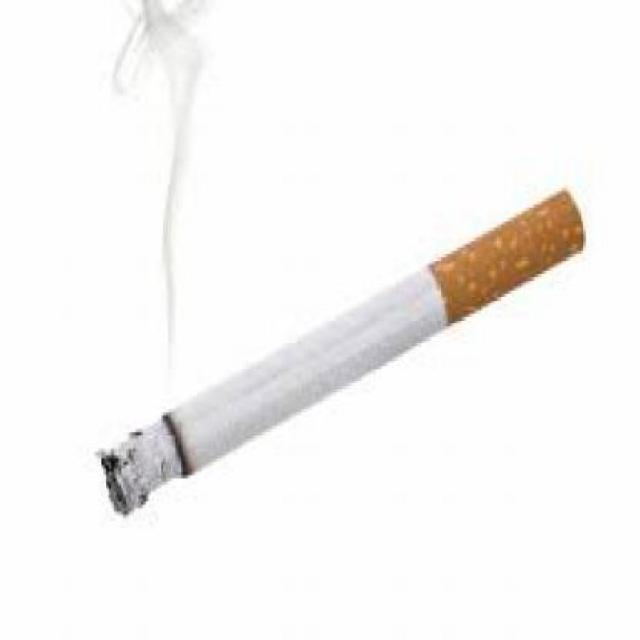cigarette: (91, 168, 588, 528)
